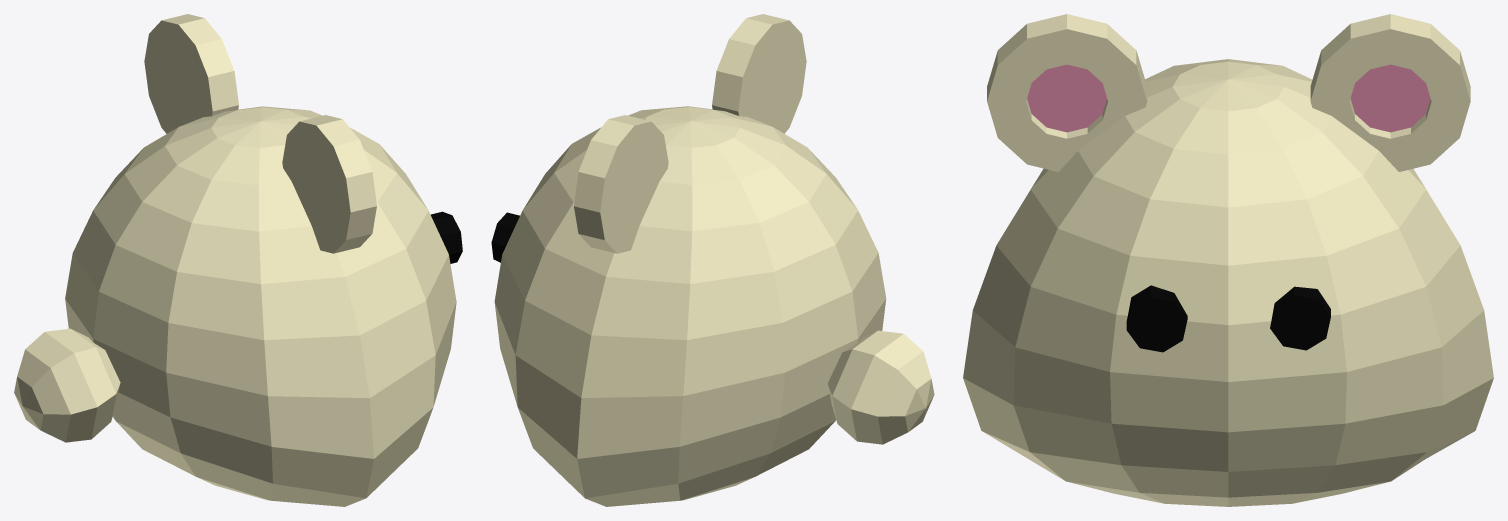
The model's file is toy_stuffedtoy.fbx.
3 views of the same model, side by side, from view 1: azimuth 30°, elevation 25°; view 2: azimuth 150°, elevation 25°; view 3: azimuth 270°, elevation 25° (orthographic). The views are drawn at different scales.
Visible parts, largest first — view 1: toy_stuffedToy; view 2: toy_stuffedToy; view 3: toy_stuffedToy.
Boxes of the visible parts, x1=… form: toy_stuffedToy: x1=14, y1=14, x2=462, y2=506; toy_stuffedToy: x1=491, y1=14, x2=934, y2=506; toy_stuffedToy: x1=963, y1=14, x2=1493, y2=506.
Bounding box in the file's own units: 349 × 325 × 339.
1 material, 1 textured.
